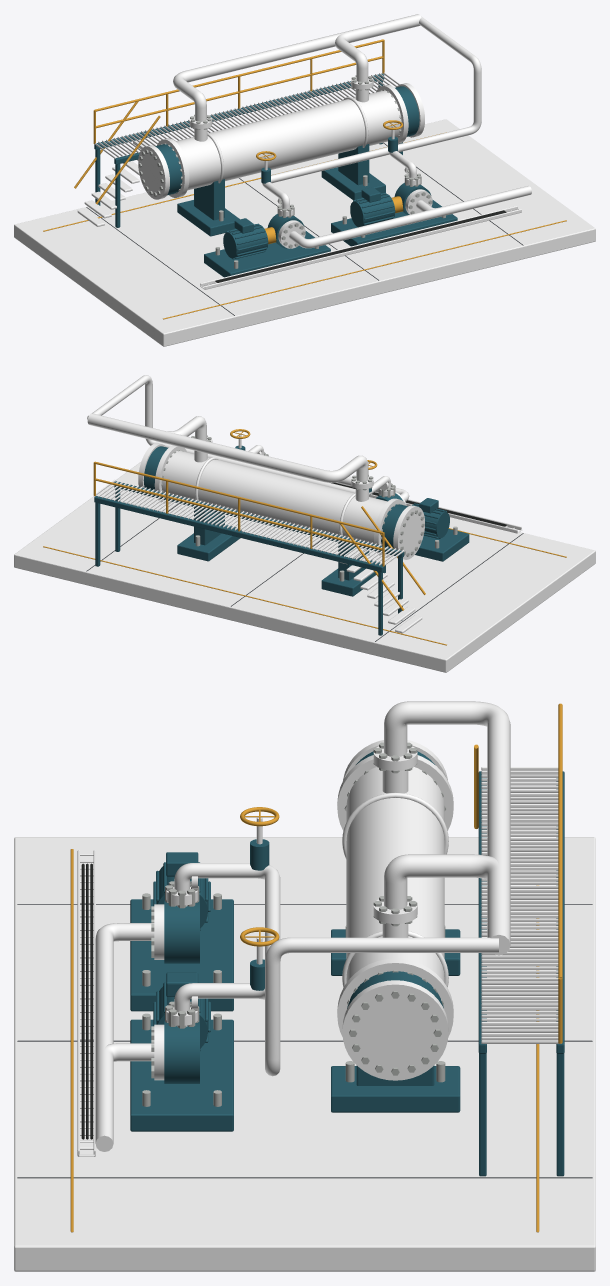
File: module.glb
3 renders of one model, top to bottom at view 1: azimuth 30°, elevation 25°; view 2: azimuth 150°, elevation 25°; view 3: azimuth 270°, elevation 25°, orthographic. The views are drawn at different scales.
Visible parts, largest first — view 1: PREHEAT_MODULE_DETAIL, E-201_DETAIL, P-101A_DETAIL, P-101B_DETAIL; view 2: PREHEAT_MODULE_DETAIL, E-201_DETAIL, P-101A_DETAIL, P-101B_DETAIL; view 3: PREHEAT_MODULE_DETAIL, E-201_DETAIL, P-101A_DETAIL, P-101B_DETAIL.
Boxes of the visible parts, left/top/right/bottom form: PREHEAT_MODULE_DETAIL: left=14, top=39, right=595, bottom=346; E-201_DETAIL: left=138, top=14, right=424, bottom=236; P-101A_DETAIL: left=204, top=18, right=531, bottom=277; P-101B_DETAIL: left=331, top=16, right=531, bottom=246; PREHEAT_MODULE_DETAIL: left=14, top=461, right=595, bottom=672; E-201_DETAIL: left=87, top=413, right=424, bottom=596; P-101A_DETAIL: left=87, top=375, right=469, bottom=561; P-101B_DETAIL: left=88, top=375, right=268, bottom=460; PREHEAT_MODULE_DETAIL: left=14, top=703, right=595, bottom=1271; E-201_DETAIL: left=331, top=701, right=510, bottom=1112; P-101A_DETAIL: left=95, top=807, right=498, bottom=1151; P-101B_DETAIL: left=96, top=927, right=498, bottom=1143.
Size of the model in its own units: 15 by 4.92 by 9.
